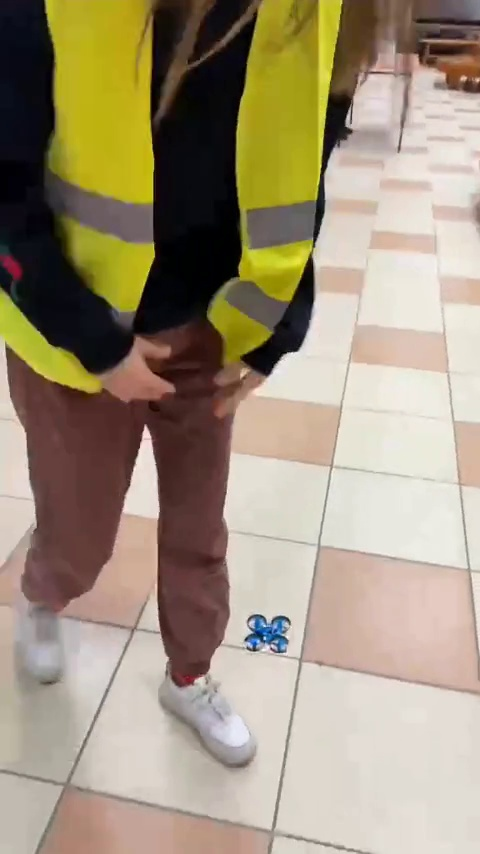drone: (245, 611, 298, 656)
vest: (0, 4, 345, 800)
